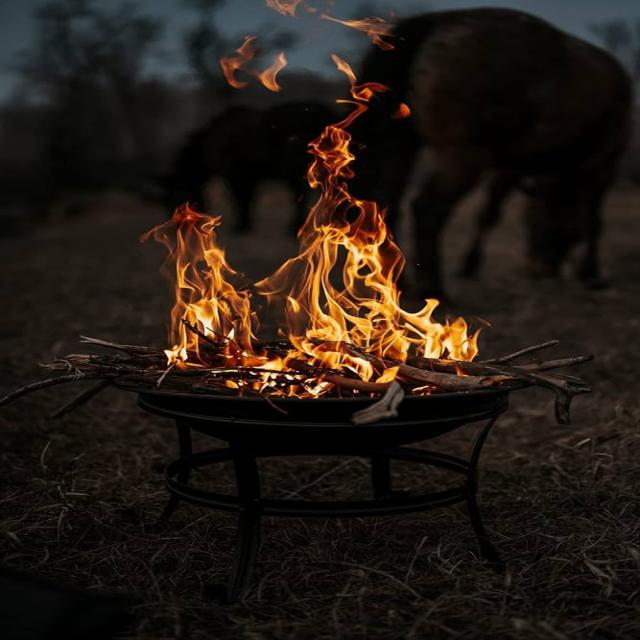Fire: (122, 110, 502, 400)
